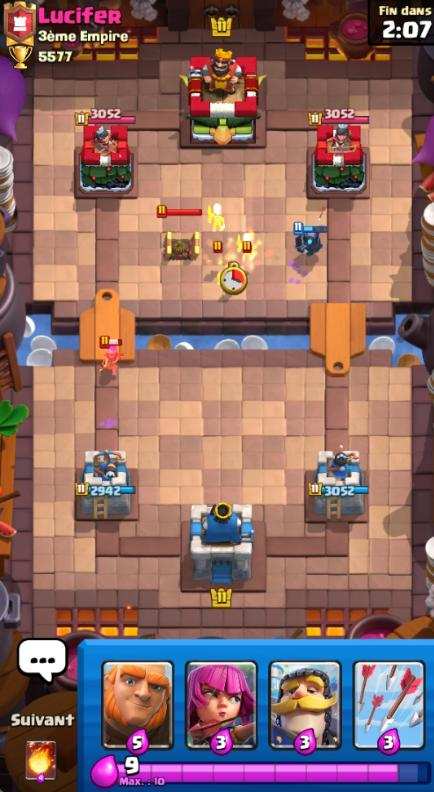archere: (103, 347, 121, 373)
mini_PEKKA: (296, 230, 322, 255)
squelette: (238, 231, 262, 262), (208, 203, 226, 232)
